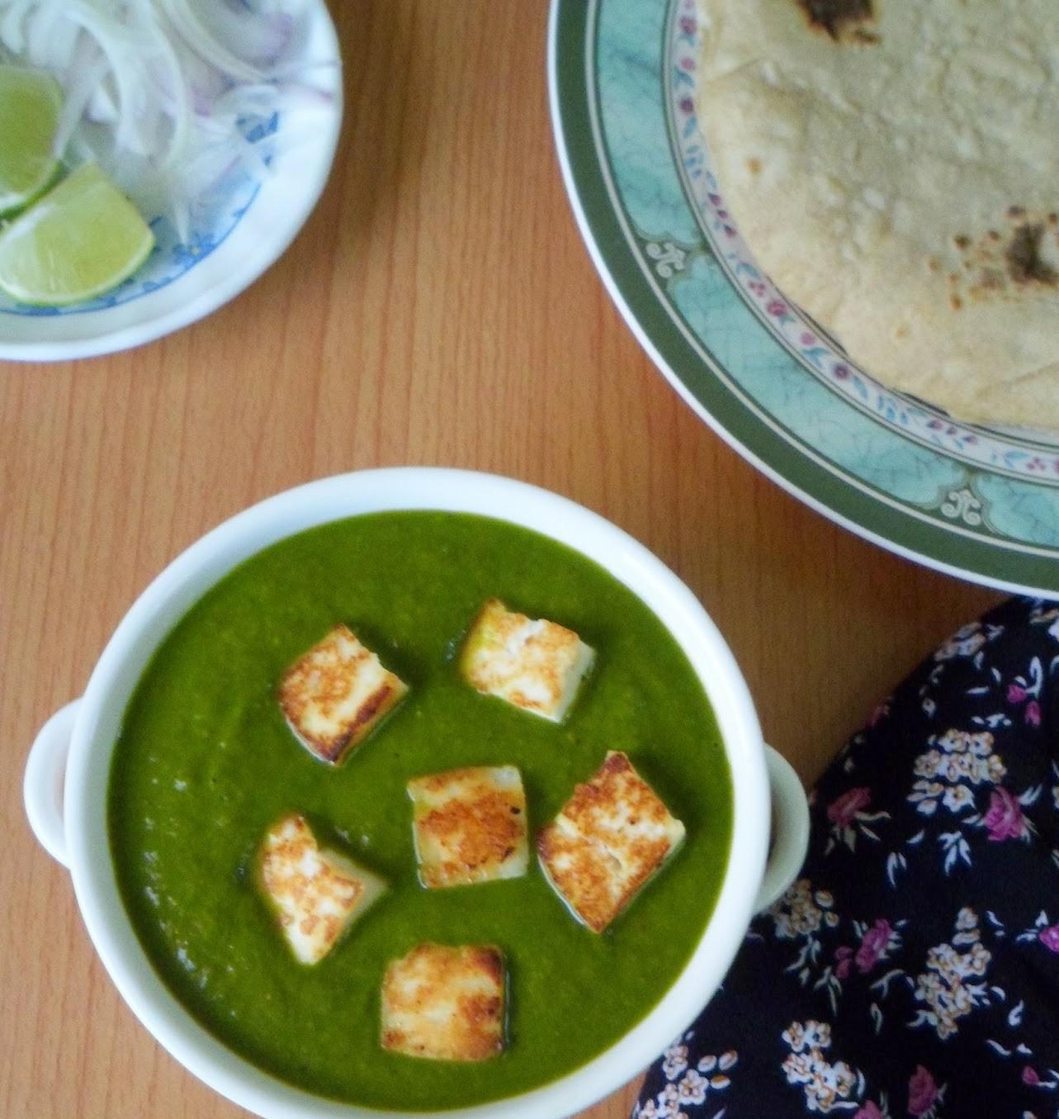PalakPaneer: (128, 518, 735, 1109)
